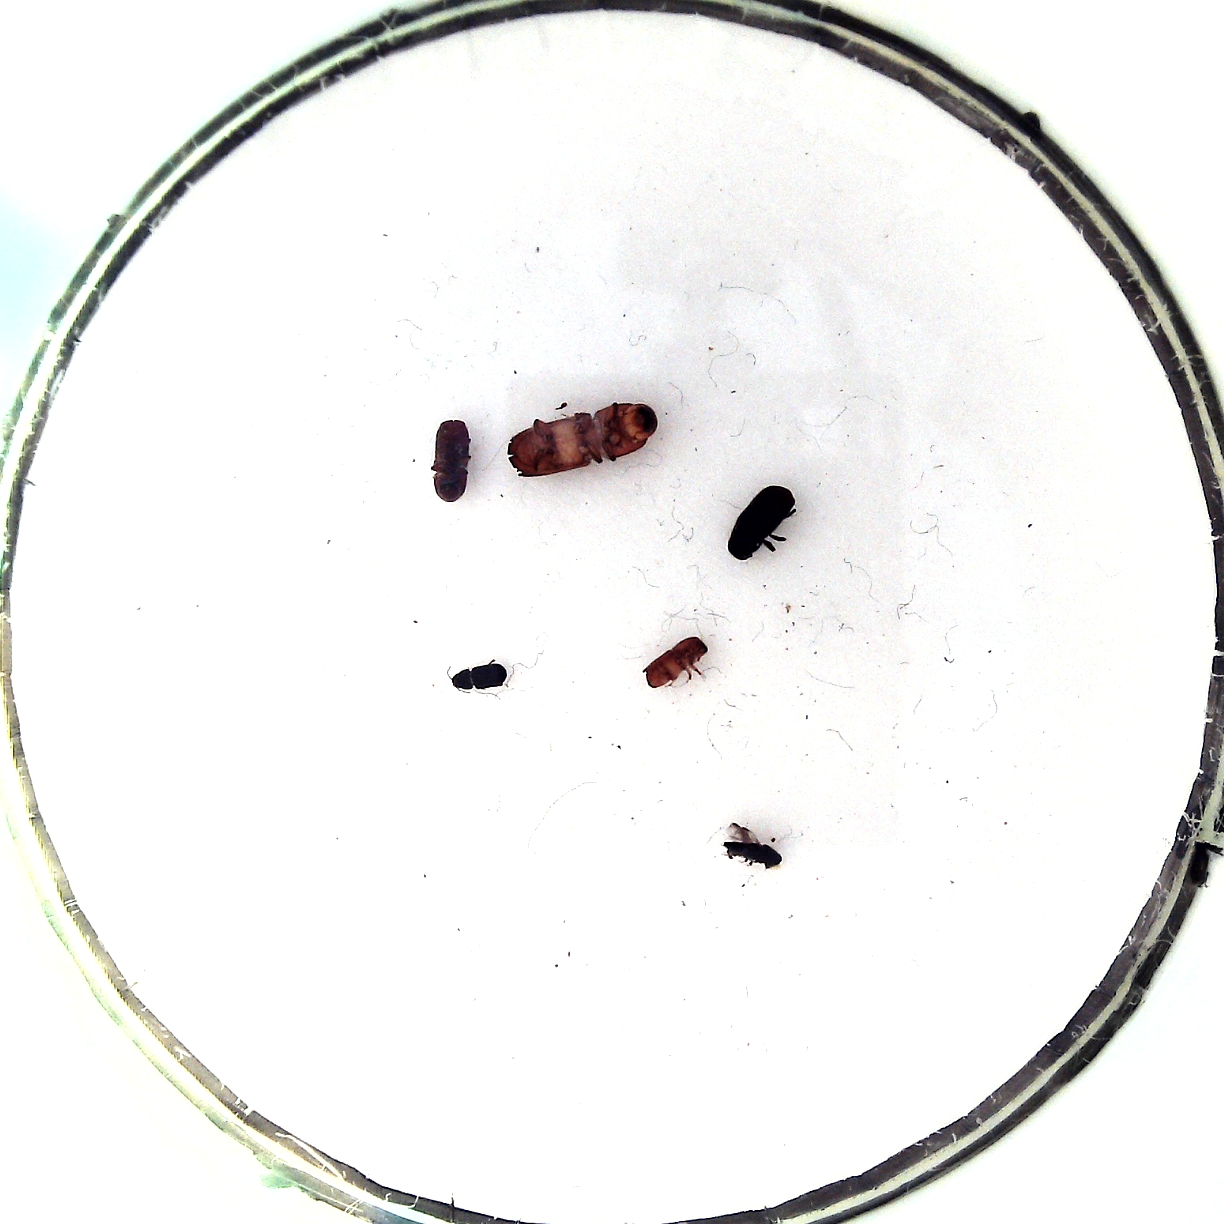Boerner: (506, 402, 659, 477)
acuminatus: (723, 841, 782, 870), (451, 664, 508, 690)
armandi: (727, 485, 796, 559)
coleoptera: (643, 637, 708, 687)
linnaeus: (432, 419, 470, 502)
